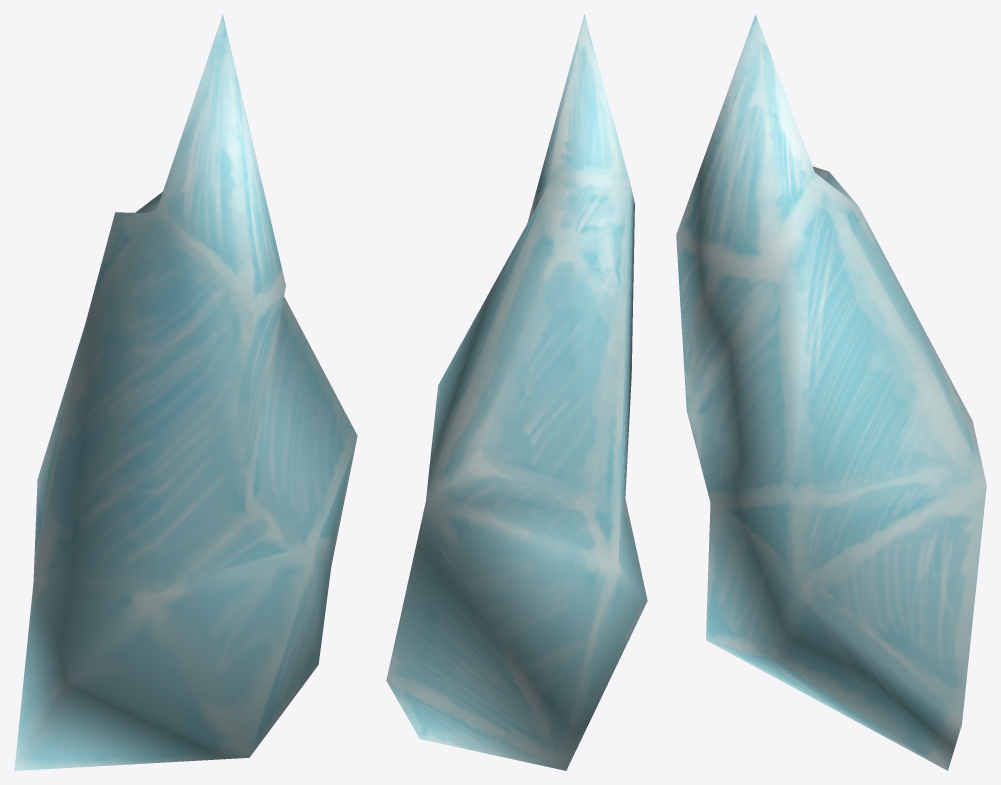
File: IceSpike.fbx
3 views of the same model, side by side, from view 1: azimuth 30°, elevation 25°; view 2: azimuth 150°, elevation 25°; view 3: azimuth 270°, elevation 25° (orthographic). The views are drawn at different scales.
Visible parts, largest first — view 1: IceSpike; view 2: IceSpike; view 3: IceSpike.
Part boxes in pixels (bbox=[...]): IceSpike: bbox=[14, 14, 357, 770]; IceSpike: bbox=[386, 14, 647, 770]; IceSpike: bbox=[676, 14, 986, 770].
Size of the model in its own units: 0.2442 by 0.7101 by 0.2782.
